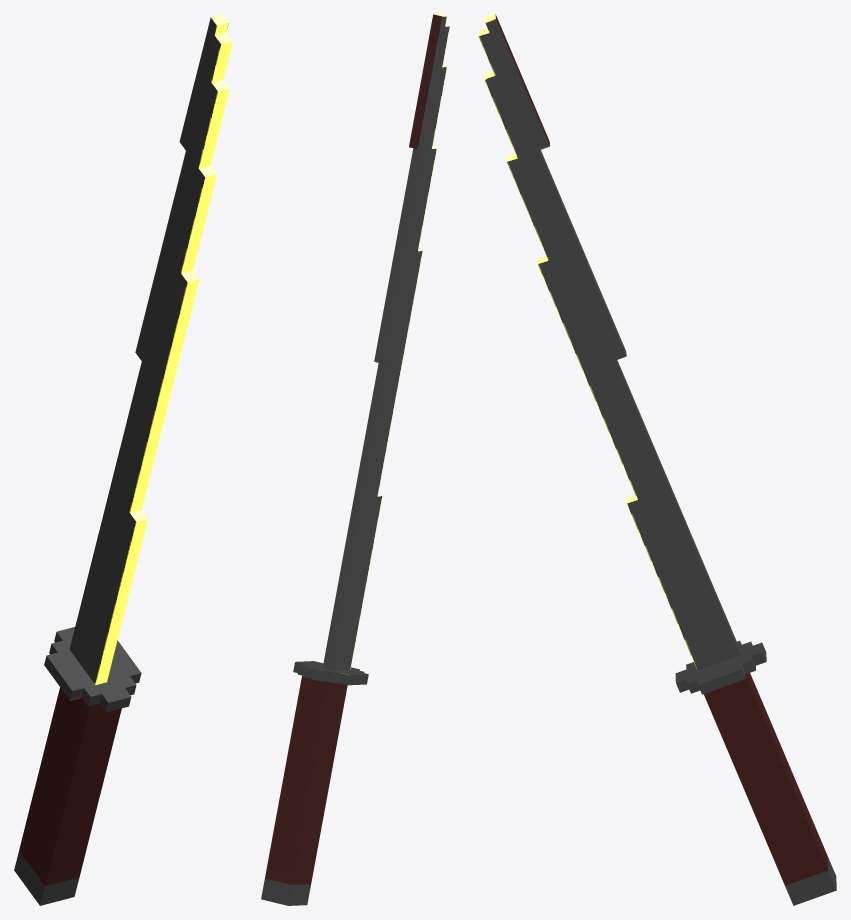
Rendered from katana_yellow.glb.
The picture shows the model from 3 angles, left to right: view 1: azimuth 30°, elevation 25°; view 2: azimuth 150°, elevation 25°; view 3: azimuth 270°, elevation 25°; orthographic projection. The views are drawn at different scales.
Visible parts, largest first — view 1: katana.001; view 2: katana.001; view 3: katana.001.
Boxes of the visible parts, x1,y1,x2,y2 form: katana.001: (14,14,232,905); katana.001: (261,14,449,905); katana.001: (478,14,836,905).
Size of the model in its own units: 0.6076 by 8.34 by 3.09.
Materials: 1 (1 with a texture image).
